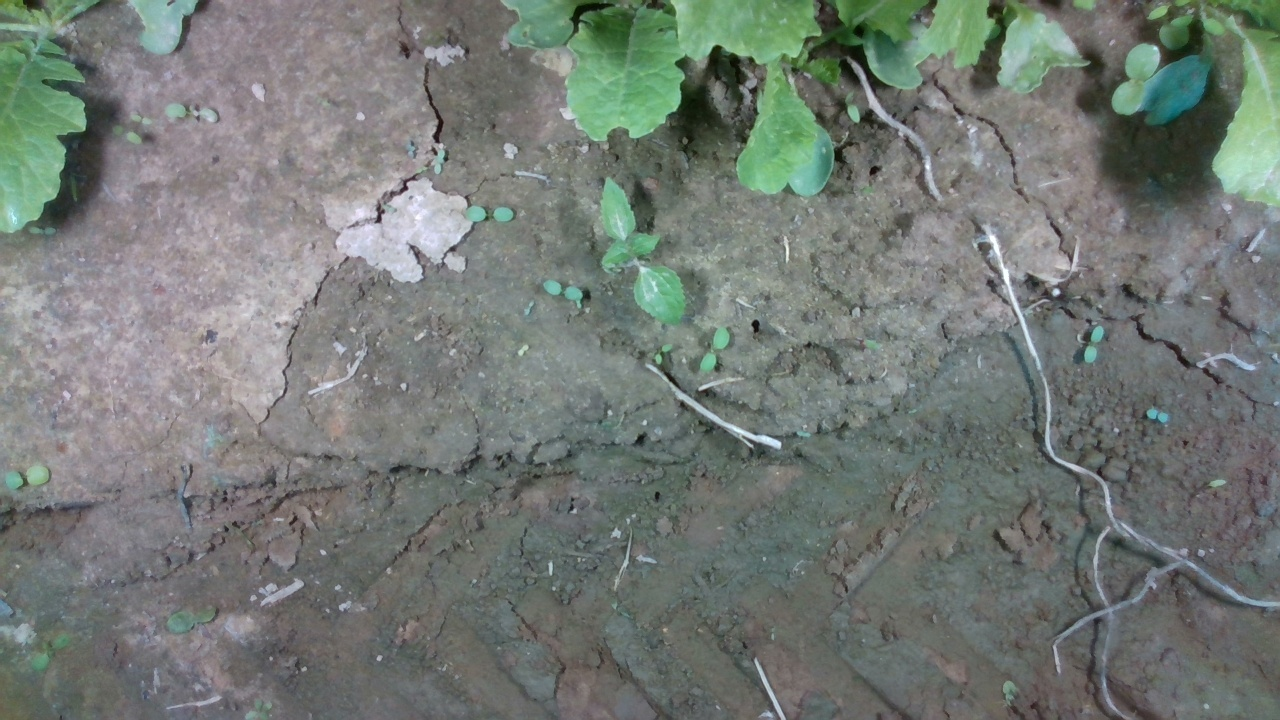weed: (597, 174, 687, 329), (697, 325, 731, 377), (3, 464, 51, 491), (164, 101, 220, 124), (461, 204, 516, 223), (1083, 324, 1104, 364), (110, 124, 144, 146), (653, 341, 675, 367), (428, 147, 447, 174), (126, 110, 154, 127), (1145, 407, 1168, 424), (404, 139, 416, 159), (522, 298, 536, 315), (516, 342, 529, 358)
